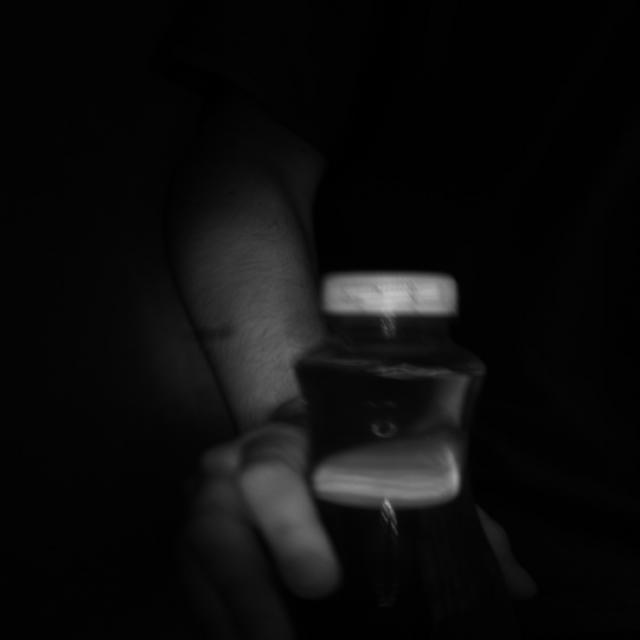Good: (322, 272, 457, 315)
